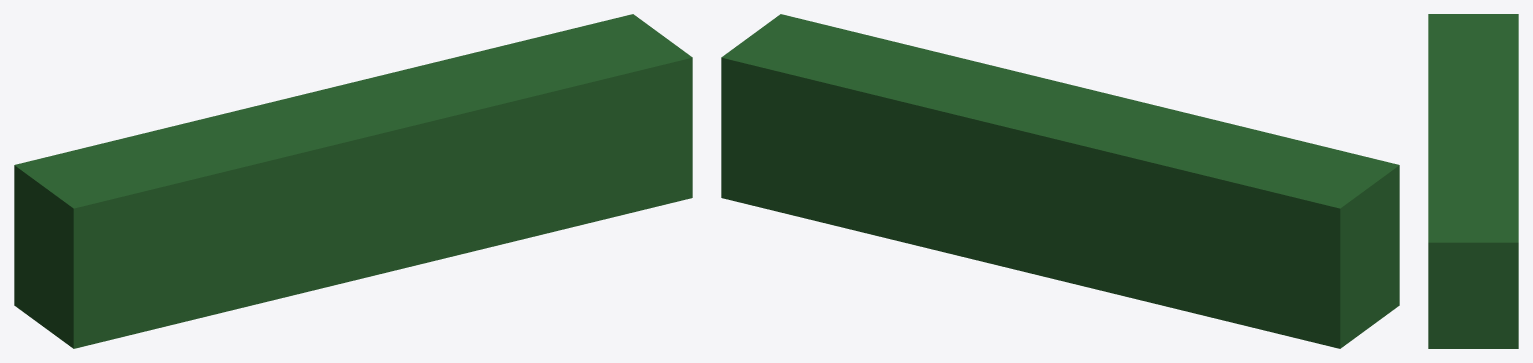
The model's file is prop_lx_hedge.glb.
The picture shows the model from 3 angles, left to right: view 1: azimuth 30°, elevation 25°; view 2: azimuth 150°, elevation 25°; view 3: azimuth 270°, elevation 25°; orthographic projection. The views are drawn at different scales.
Parts seen in each view (by area): view 1: prop_lx_hedge; view 2: prop_lx_hedge; view 3: prop_lx_hedge.
Part boxes in pixels (left/top/right/bottom): prop_lx_hedge: left=14, top=14, right=692, bottom=348; prop_lx_hedge: left=721, top=14, right=1399, bottom=348; prop_lx_hedge: left=1428, top=14, right=1518, bottom=348.
Size of what is drawn, in the model's own units: 6 by 1.3 by 1.
